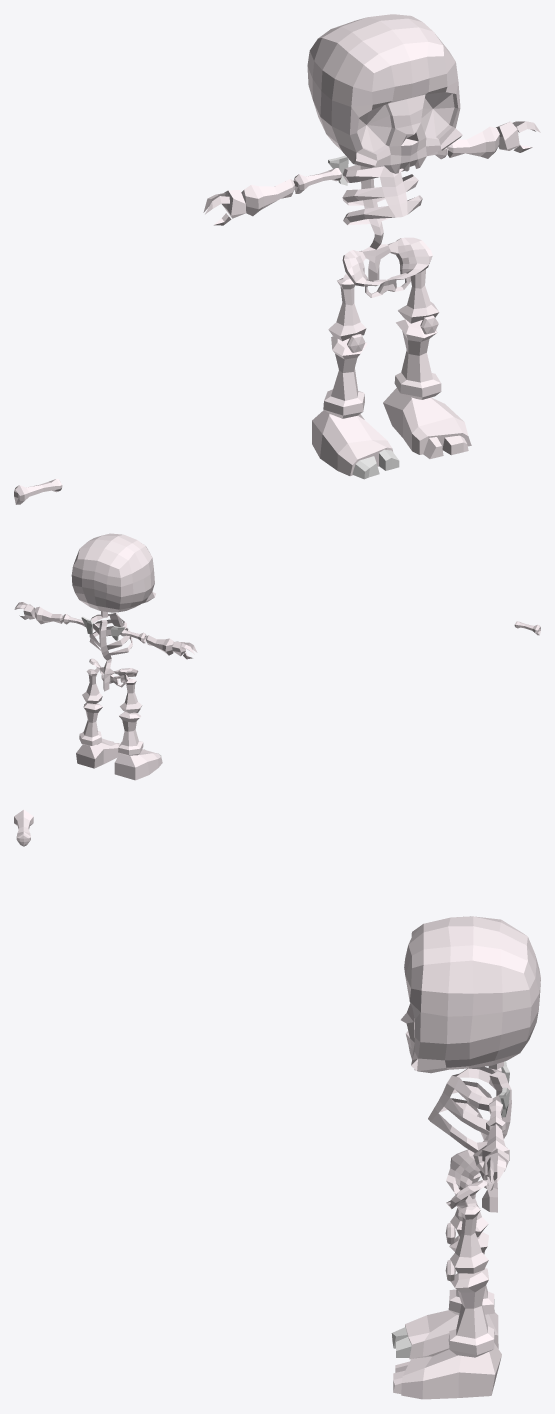
The model's file is Skeleton.fbx.
The picture shows the model from 3 angles, top to bottom: view 1: azimuth 30°, elevation 25°; view 2: azimuth 150°, elevation 25°; view 3: azimuth 270°, elevation 25°; orthographic projection. The views are drawn at different scales.
Parts seen in each view (by area): view 1: Hoofd, Rippen&Heup, Voeten, Onderbeen, BovenBeen, Onderarm, Hand, BovenArm, BovenArm.001; view 2: Hoofd, Voeten, Rippen&Heup, Onderbeen, BovenBeen, Onderarm, Hand, BovenArm; view 3: Hoofd, Voeten, Rippen&Heup, Onderbeen, BovenBeen.
Part boxes in pixels (box(x1,y1,x2,y2)): Hoofd: box(307, 14, 462, 173); Rippen&Heup: box(342, 165, 432, 297); Voeten: box(312, 388, 471, 476); Onderbeen: box(323, 319, 441, 418); BovenBeen: box(328, 269, 439, 341); Onderarm: box(241, 126, 499, 216); Hand: box(203, 121, 540, 225); BovenArm: box(293, 147, 447, 193); BovenArm.001: box(14, 478, 62, 504); Hoofd: box(71, 533, 155, 612); Voeten: box(76, 738, 162, 780); Rippen&Heup: box(89, 611, 138, 691); Onderbeen: box(79, 703, 143, 755); BovenBeen: box(82, 668, 142, 713); Onderarm: box(34, 606, 174, 655); Hand: box(14, 602, 197, 659); BovenArm: box(63, 614, 146, 643); Hoofd: box(401, 916, 540, 1073); Voeten: box(401, 1310, 501, 1399); Rippen&Heup: box(428, 1062, 511, 1220); Onderbeen: box(448, 1232, 494, 1357); BovenBeen: box(450, 1173, 488, 1273).
Bounding box in the file's own units: 868 × 466 × 501.
